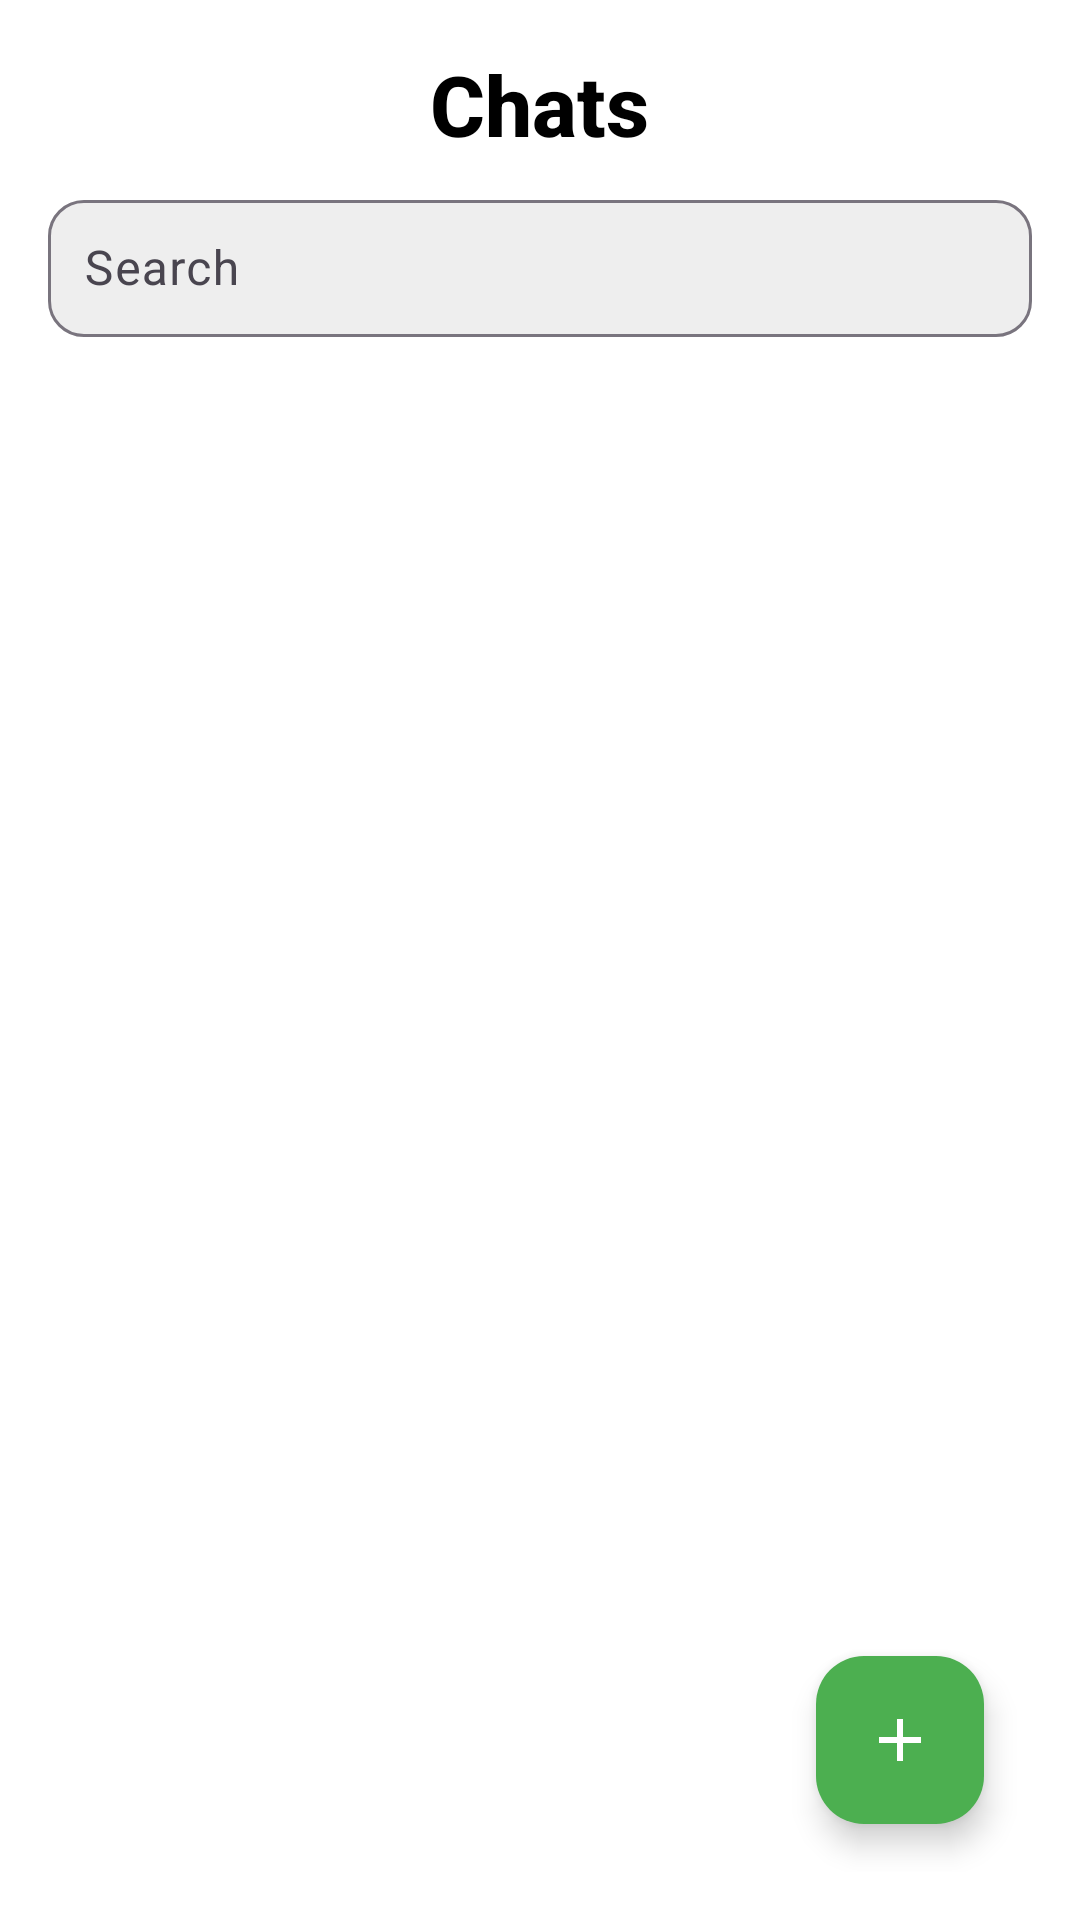

Icon click points for this 1080*1920 phone screenshot, format (x,y):
Start New Chat: (900,1740)
